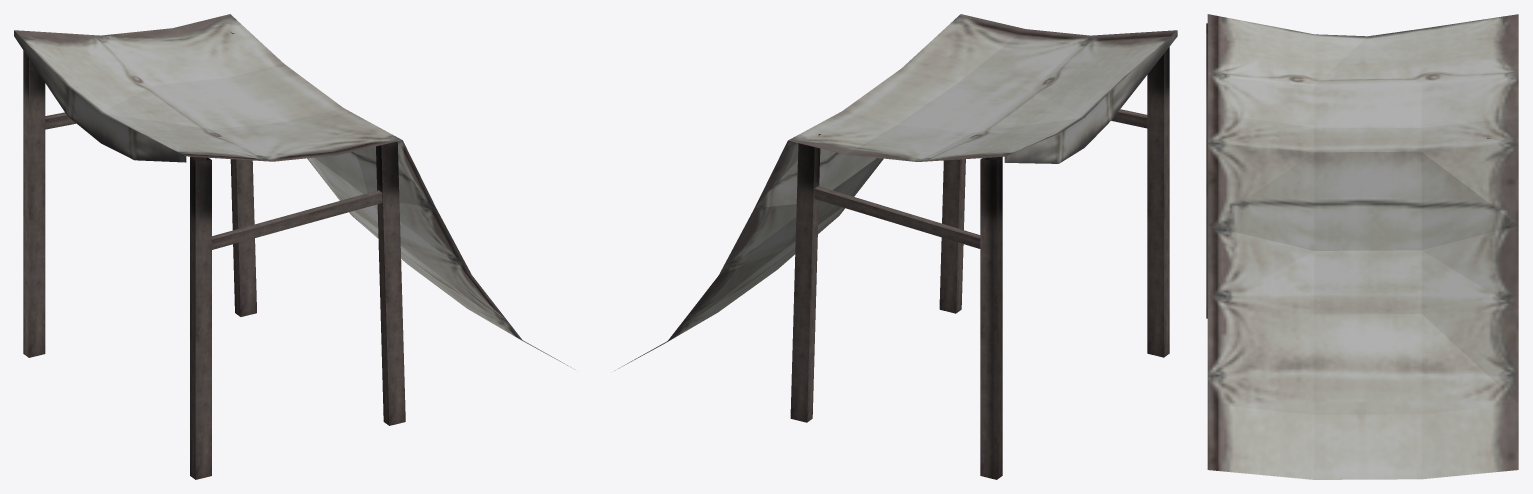
File: nocheon 1.fbx
3 views of the same model, side by side, from view 1: azimuth 30°, elevation 25°; view 2: azimuth 150°, elevation 25°; view 3: azimuth 270°, elevation 25° (orthographic). The views are drawn at different scales.
Visible parts, largest first — view 1: Object001, Object002, polySurface22, polySurface19, polySurface21, Object003, polySurface20, polySurface24; view 2: Object001, Object002, polySurface19, polySurface22, polySurface20, Object003, polySurface21, polySurface23; view 3: Object002, Object001, polySurface22.
Part boxes in pixels (bbox=[...]): Object001: bbox=[14, 14, 402, 161]; Object002: bbox=[307, 140, 574, 369]; polySurface22: bbox=[190, 156, 211, 479]; polySurface19: bbox=[23, 50, 45, 357]; polySurface21: bbox=[376, 141, 405, 425]; Object003: bbox=[14, 30, 186, 162]; polySurface20: bbox=[230, 32, 256, 316]; polySurface24: bbox=[212, 190, 382, 249]; Object001: bbox=[788, 14, 1176, 161]; Object002: bbox=[615, 140, 883, 370]; polySurface19: bbox=[980, 157, 1002, 479]; polySurface22: bbox=[1147, 47, 1169, 357]; polySurface20: bbox=[790, 134, 820, 422]; Object003: bbox=[1004, 30, 1177, 163]; polySurface21: bbox=[939, 159, 965, 313]; polySurface23: bbox=[814, 186, 980, 248]; Object002: bbox=[1207, 142, 1518, 479]; Object001: bbox=[1207, 14, 1518, 152]; polySurface22: bbox=[1206, 23, 1207, 318].
Size of the model in its own units: 40.04 by 31.52 by 30.42.
1 material, 1 textured.
